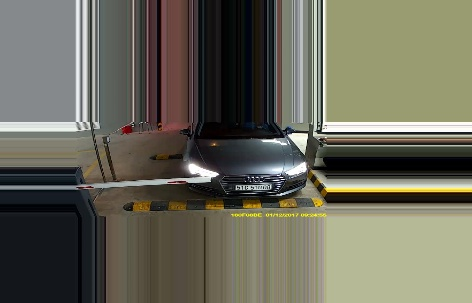plate: (235, 182, 273, 192)
